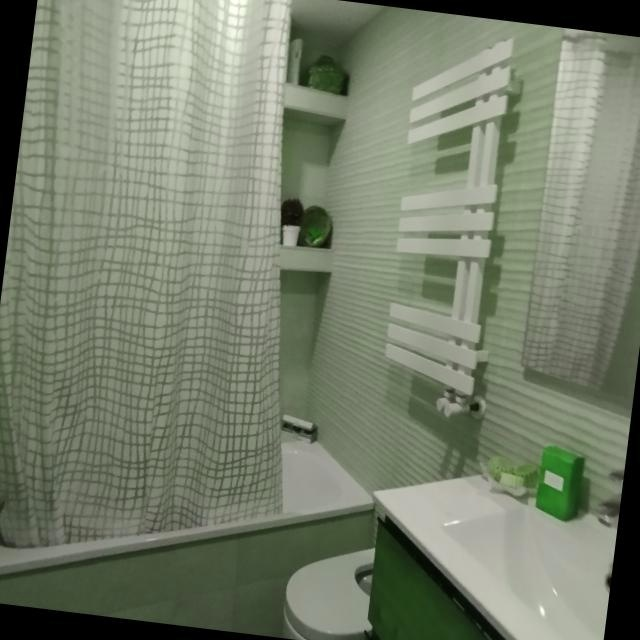wardrobe: (369, 476, 617, 640)
